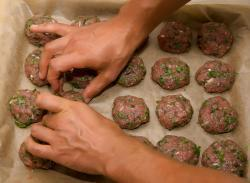ground_beef: (200, 96, 235, 133), (201, 22, 233, 60), (157, 93, 192, 127), (152, 56, 182, 92)
